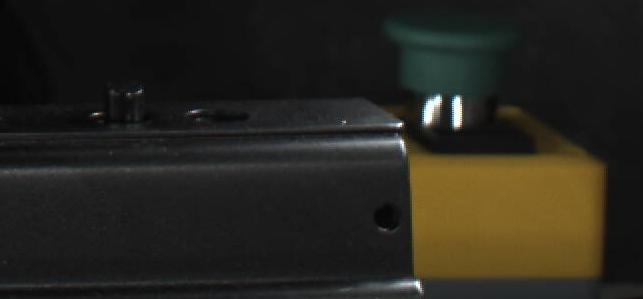screw: (101, 74, 148, 125)
